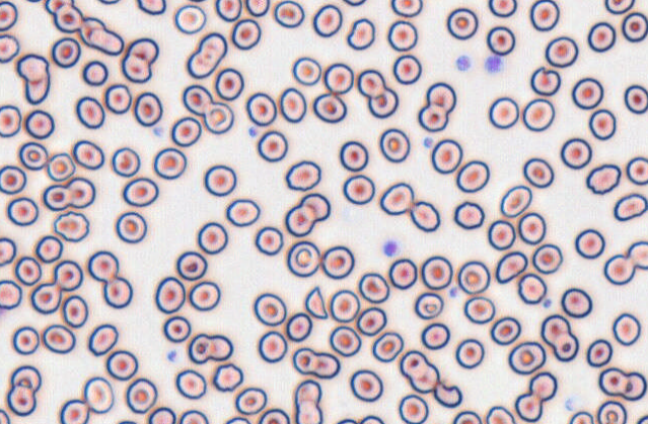PLT: (483, 56, 504, 75), (382, 239, 402, 257), (455, 55, 473, 72), (165, 348, 181, 362), (421, 136, 434, 149), (448, 287, 461, 299), (247, 125, 259, 138)
RBC: (186, 32, 227, 78), (15, 53, 50, 104), (121, 37, 159, 83), (507, 341, 546, 375), (286, 240, 320, 277), (52, 210, 89, 242), (455, 159, 489, 193), (379, 182, 414, 215), (125, 377, 157, 413), (430, 138, 462, 174), (83, 376, 114, 413), (154, 276, 185, 313), (349, 369, 383, 402), (457, 260, 490, 294), (321, 245, 354, 279), (253, 292, 286, 326), (420, 255, 452, 290), (285, 160, 321, 191), (152, 147, 186, 179), (245, 92, 277, 126), (586, 163, 621, 194), (379, 127, 410, 162), (122, 177, 158, 207), (284, 204, 316, 237), (202, 101, 234, 134), (114, 211, 147, 243), (500, 184, 532, 217), (203, 164, 236, 196), (446, 7, 478, 40), (522, 98, 554, 131), (42, 323, 76, 354), (312, 92, 346, 123), (544, 36, 578, 67), (87, 250, 119, 282), (603, 253, 635, 285), (495, 251, 527, 283), (560, 137, 592, 169), (571, 77, 603, 109), (328, 325, 361, 356), (87, 323, 118, 356), (329, 289, 360, 322), (105, 349, 138, 380), (197, 221, 228, 254), (488, 96, 519, 129), (133, 91, 162, 126), (225, 198, 260, 227), (88, 27, 124, 55), (278, 87, 306, 123), (425, 81, 456, 113), (367, 86, 398, 118), (102, 276, 133, 308), (181, 84, 213, 115), (30, 282, 61, 314), (371, 331, 403, 362), (560, 287, 592, 318), (409, 200, 440, 232), (188, 280, 220, 311), (72, 139, 104, 170), (257, 130, 288, 162), (522, 157, 554, 188), (230, 18, 261, 50), (257, 330, 287, 363), (342, 174, 375, 204), (214, 67, 244, 100), (75, 96, 105, 129), (312, 4, 342, 37), (612, 312, 641, 346), (408, 362, 439, 393), (170, 116, 201, 147), (531, 243, 562, 274), (358, 272, 389, 303), (574, 228, 605, 259), (65, 176, 95, 208), (6, 384, 36, 416), (53, 259, 83, 291), (517, 272, 547, 304), (175, 250, 207, 280), (6, 196, 38, 226), (174, 4, 206, 34), (323, 62, 353, 94), (234, 386, 267, 415), (346, 17, 375, 50), (613, 193, 647, 221), (212, 362, 243, 392), (175, 369, 206, 399), (454, 338, 484, 369), (356, 306, 387, 336), (51, 37, 81, 68), (530, 66, 561, 96), (529, 0, 559, 31), (387, 20, 417, 51), (463, 295, 495, 324), (517, 212, 546, 244), (61, 294, 88, 328), (398, 393, 428, 423), (24, 109, 54, 139), (598, 367, 629, 396), (299, 192, 330, 221), (10, 364, 41, 393), (490, 316, 521, 345), (388, 258, 417, 289), (111, 146, 140, 177), (339, 140, 368, 171), (587, 21, 616, 52), (588, 108, 616, 140), (53, 3, 83, 32), (418, 103, 448, 132), (46, 152, 75, 182), (18, 141, 48, 170), (392, 54, 421, 84), (291, 56, 321, 85), (486, 25, 515, 55), (487, 219, 515, 250), (453, 201, 484, 229), (104, 83, 132, 114), (273, 0, 304, 28), (254, 226, 283, 255), (529, 371, 557, 401), (514, 392, 542, 422), (357, 68, 385, 98), (420, 322, 450, 350), (11, 325, 39, 355), (35, 234, 63, 263), (14, 255, 41, 285), (285, 312, 312, 342), (621, 11, 647, 42), (311, 351, 340, 378), (42, 184, 71, 211), (162, 315, 191, 342), (414, 292, 443, 319), (553, 332, 579, 362), (0, 164, 26, 194), (294, 379, 322, 406), (79, 16, 106, 44), (586, 338, 612, 367), (187, 333, 212, 363), (622, 371, 647, 401), (59, 399, 89, 423), (596, 400, 627, 423), (0, 104, 21, 137), (624, 84, 647, 114), (82, 60, 108, 86), (292, 347, 317, 374), (208, 334, 233, 361), (0, 279, 22, 309), (295, 400, 322, 423), (626, 240, 647, 269), (626, 156, 647, 185), (0, 33, 19, 63), (214, 0, 241, 21), (390, 0, 422, 17), (485, 405, 515, 423), (257, 407, 290, 423), (0, 0, 17, 31), (147, 406, 176, 423), (488, 0, 517, 17), (0, 236, 16, 266), (136, 0, 166, 15), (604, 0, 635, 14), (178, 409, 208, 423), (44, 0, 73, 14), (245, 0, 269, 16), (452, 410, 481, 423), (567, 410, 594, 423), (359, 414, 384, 423), (224, 416, 251, 423), (0, 408, 10, 423), (342, 0, 366, 6), (97, 0, 120, 5), (335, 418, 357, 423), (116, 419, 137, 424), (636, 414, 647, 423), (24, 0, 42, 3), (185, 0, 208, 2)
Schistocyte: (305, 285, 330, 320), (433, 382, 462, 408)
